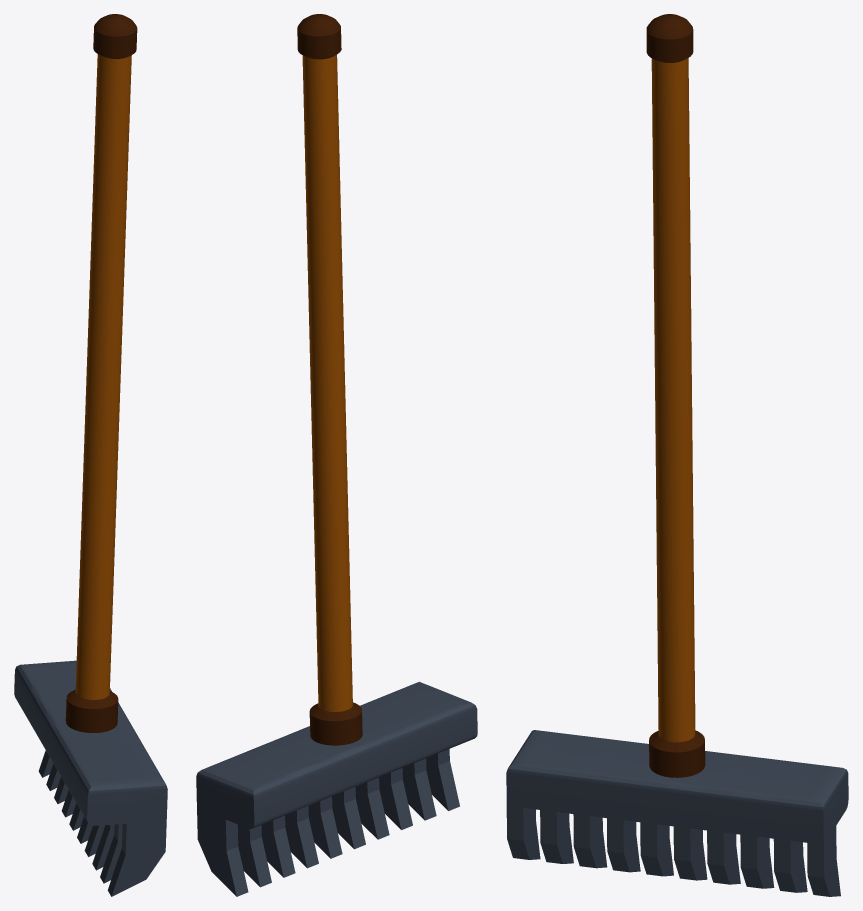
The model's file is Prop_Rake.fbx.
3 renders of one model, left to right at view 1: azimuth 30°, elevation 25°; view 2: azimuth 150°, elevation 25°; view 3: azimuth 270°, elevation 25°, orthographic. The views are drawn at different scales.
Visible parts, largest first — view 1: pasted__Cabo, pasted__Rastelo; view 2: pasted__Rastelo, pasted__Cabo; view 3: pasted__Rastelo, pasted__Cabo.
Part boxes in pixels (x1=…): pasted__Cabo: x1=65, y1=14, x2=137, y2=732; pasted__Rastelo: x1=14, y1=660, x2=167, y2=896; pasted__Rastelo: x1=196, y1=681, x2=477, y2=896; pasted__Cabo: x1=297, y1=14, x2=362, y2=745; pasted__Rastelo: x1=506, y1=730, x2=848, y2=896; pasted__Cabo: x1=646, y1=14, x2=705, y2=777.
Bounding box in the file's own units: 20.01 × 109 × 38.38.
